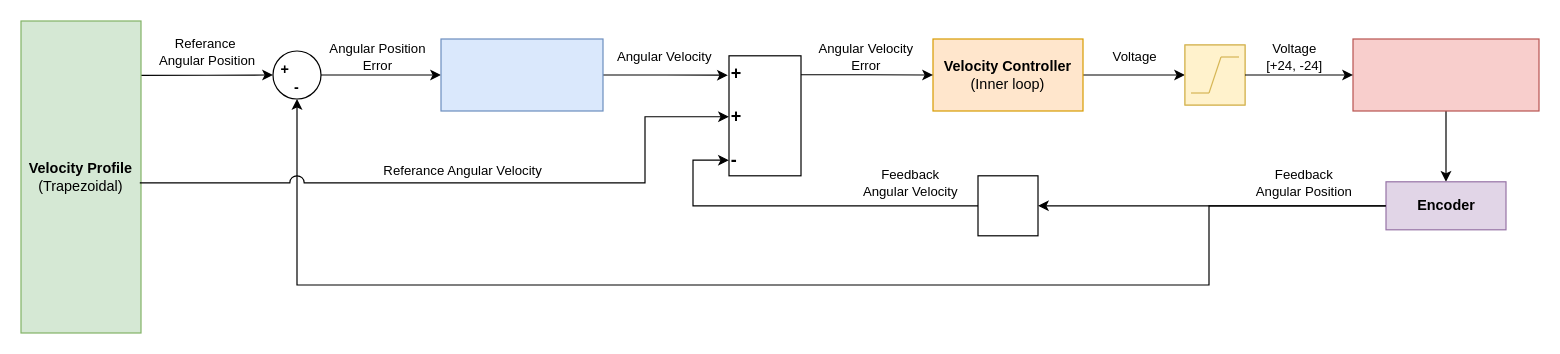
The diagram is 1560 pixels wide and 354 high, and some of its shapes have lost their labels. Here are the shapes that lost their labels. From the top down, the centre of each, then its label:
At (521,74): "Position Controller (Outer loop)".
At (1445,74): "Actuator".
At (1007,205): "du ---- dt".
